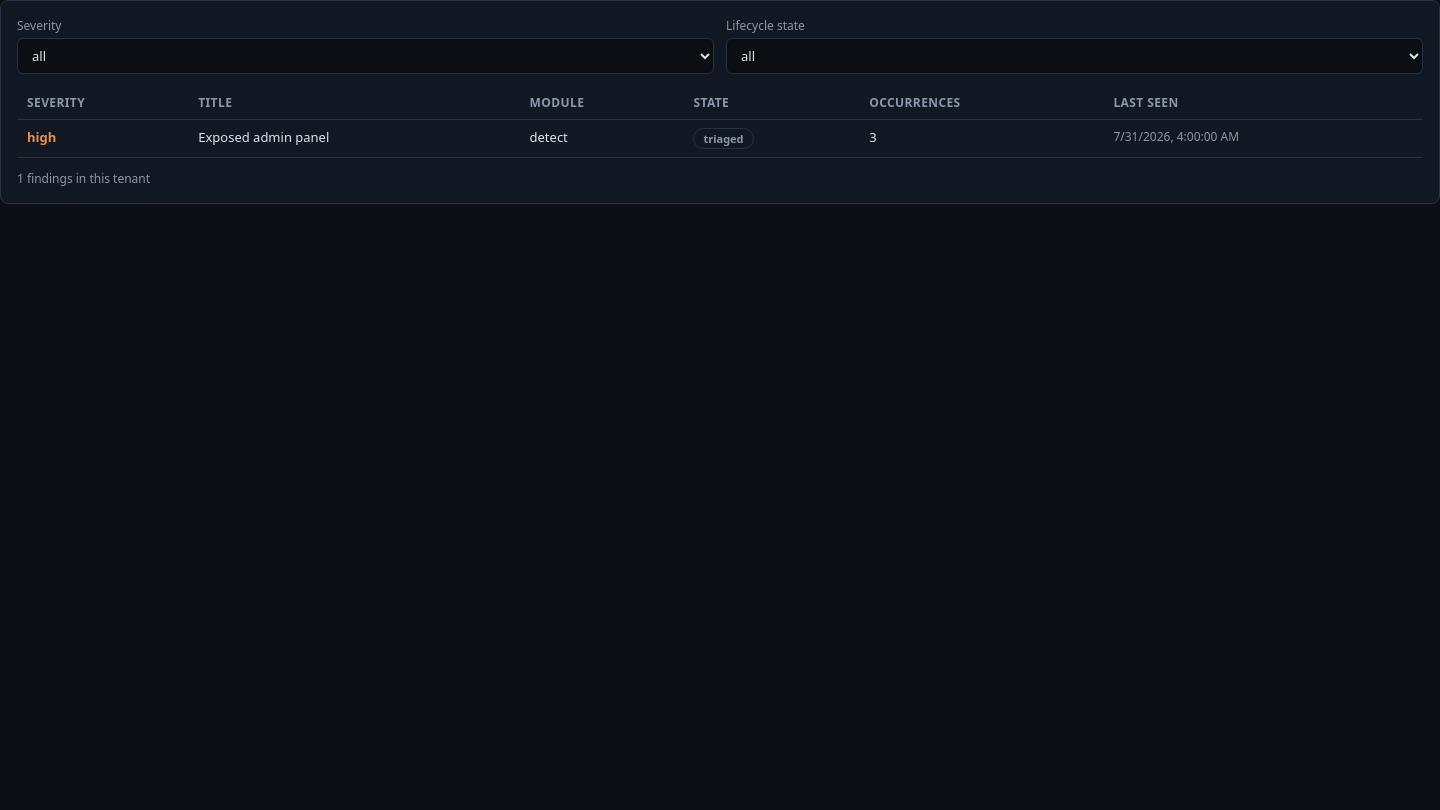
Test: FindingsBoard — findings list rendering (mocked GraphQL) › opens the detail panel with lifecycle history on row click
The width and height of the screenshot is (1440, 810).
Click the text "Exposed admin panel": (354, 138) [188, 120, 520, 158]
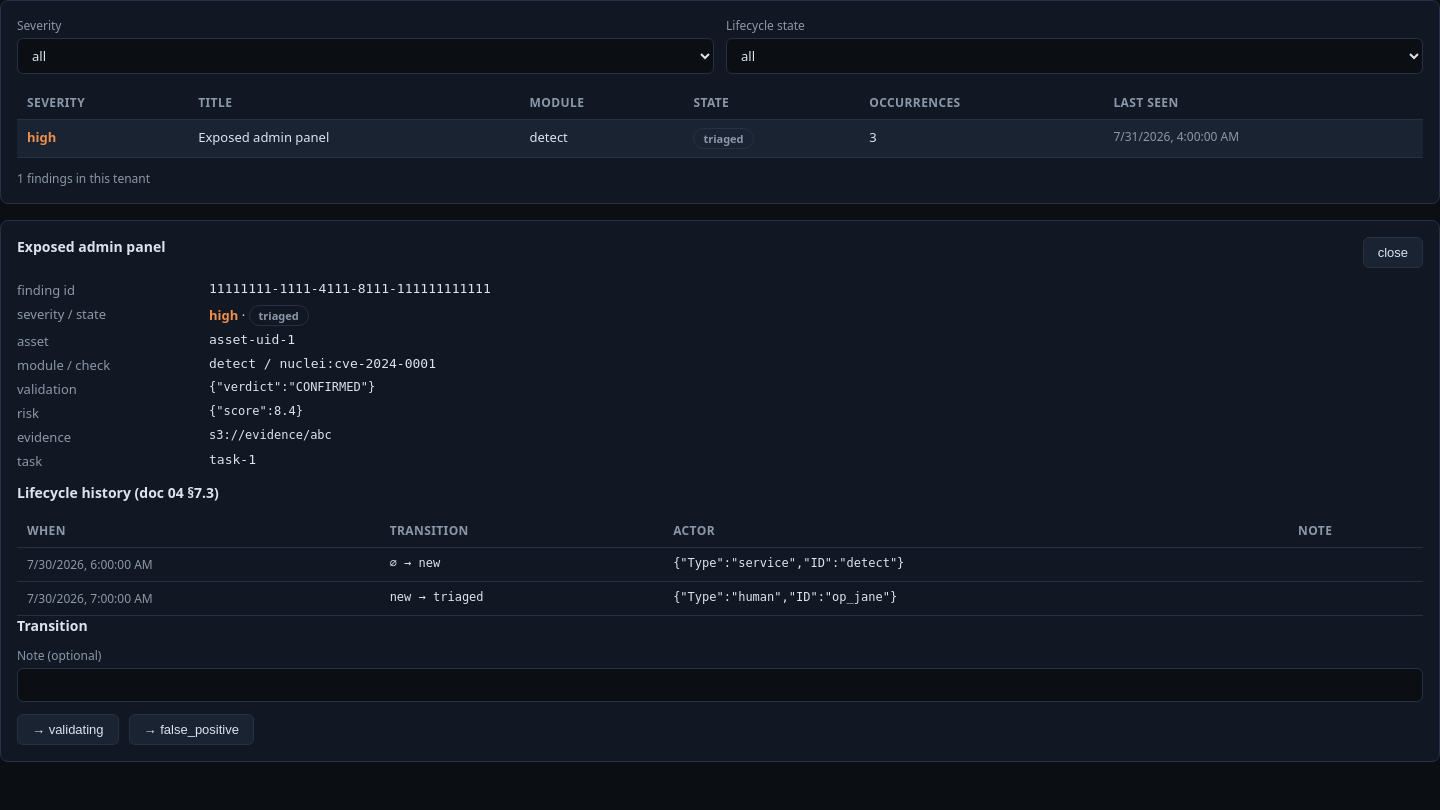
Expected: the element with test id "finding-detail" is shown
Expected: the text "detect / nuclei:cve-2024-0001" is shown, [209, 356, 436, 371]
Expected: the button "→ validating" is enabled, [17, 714, 119, 745]
